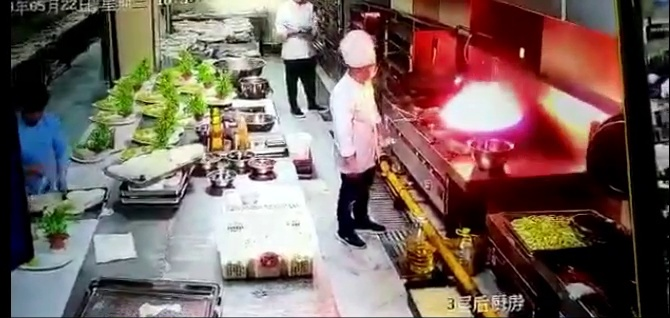fire: (447, 77, 526, 134)
